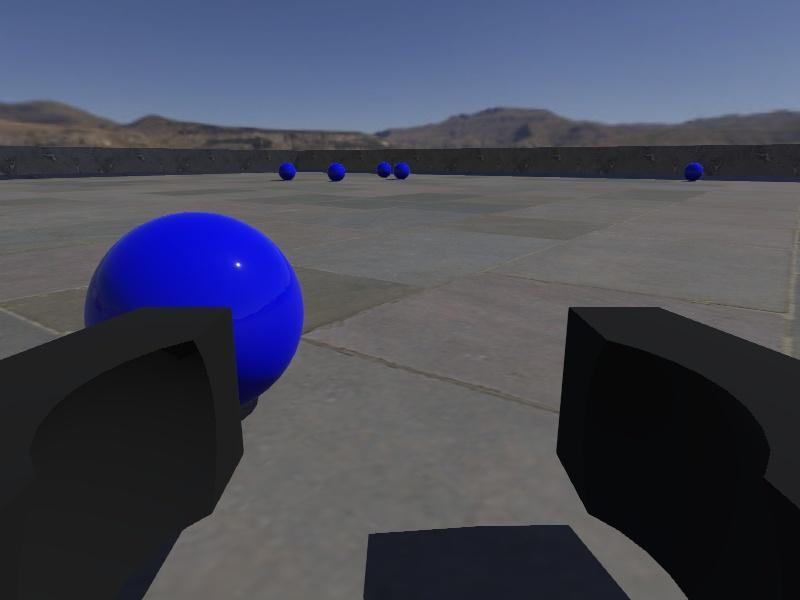blue ball: (326, 162, 346, 182), (683, 162, 703, 182), (278, 162, 297, 180), (394, 162, 412, 179), (376, 161, 393, 178)
